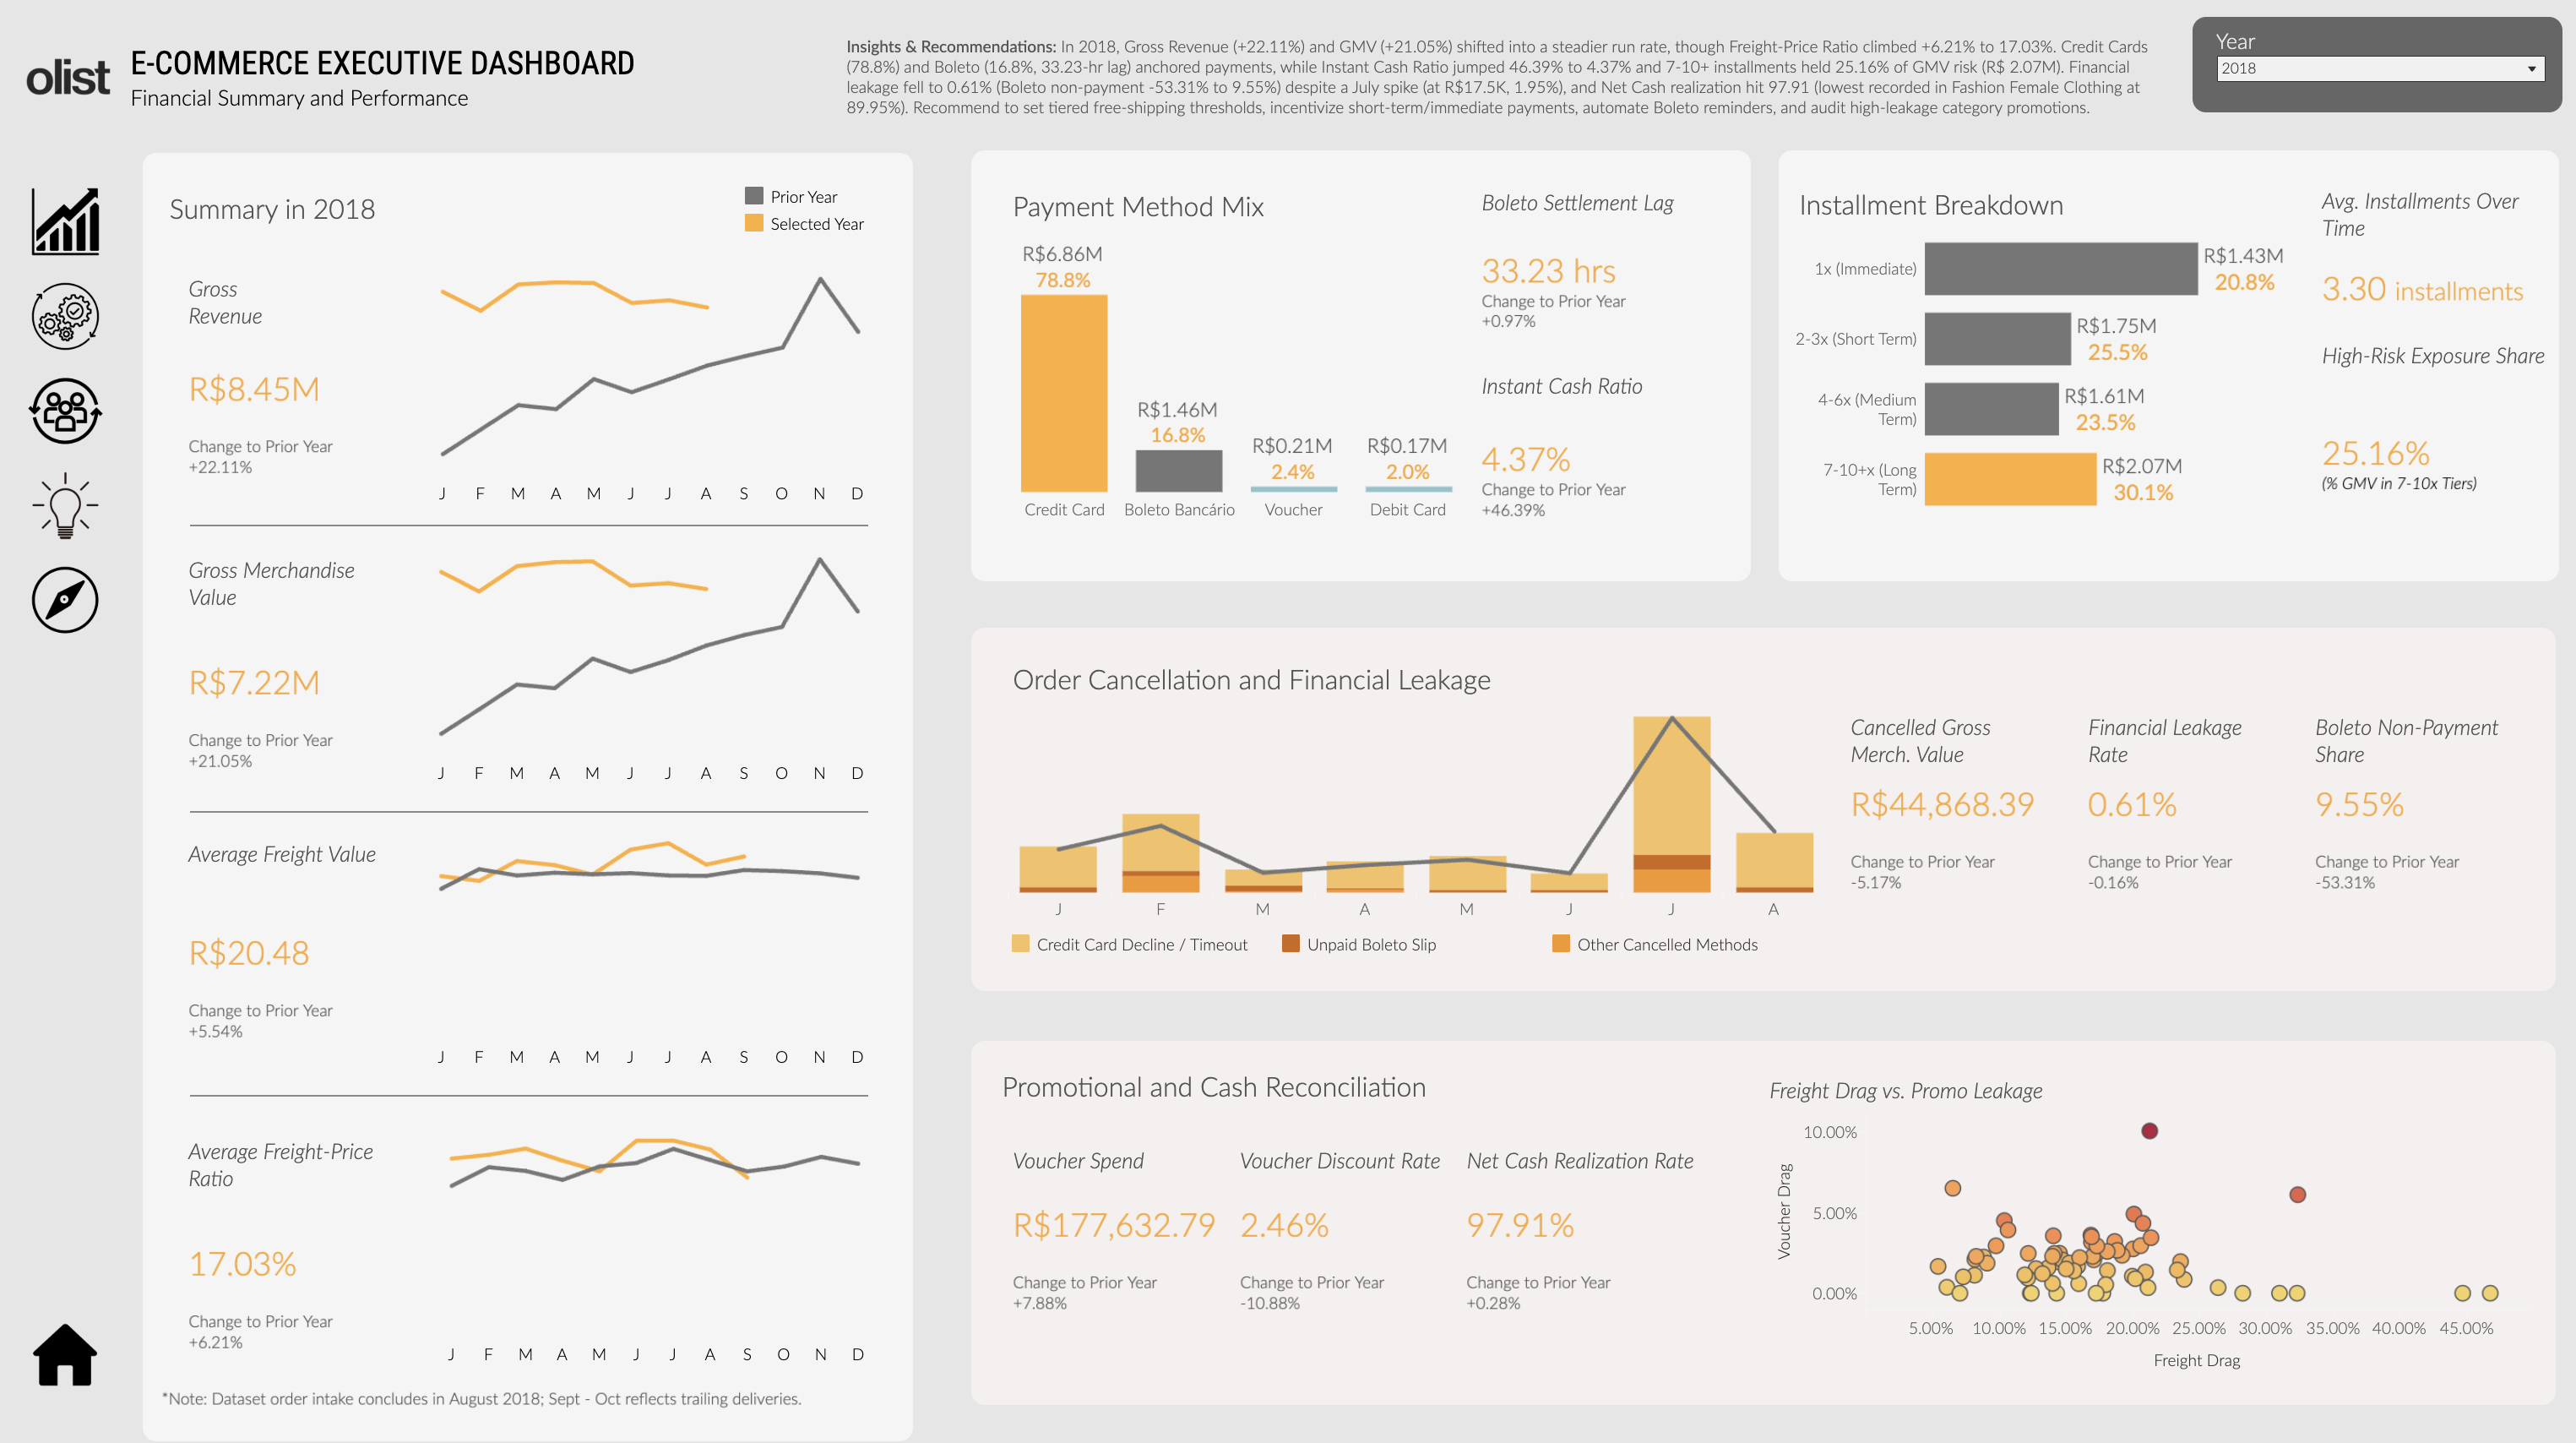

What the dashboard file says about the page in this screenshot:
{"tool":"tableau","page":{"name":"1. Financial Summary","canvas":[1920,1080],"ordinal":1},"visuals":[{"type":"blank","box":[1630,17,274,71]},{"type":"dashboard-object","box":[19.1,20.8,81,80.9]},{"type":"text","box":[100.1,20.8,530,80.9]},{"type":"text","box":[630.1,20.8,981,80.9]},{"type":"blank","box":[1611.1,20.8,32,80.9]},{"type":"parameter","param":"[Parameters].[Parameter 0014559299325996]","box":[1643.1,20.8,252.7,80.9]},{"type":"blank","box":[726,116,577,319]},{"type":"blank","box":[1324,116,577,319]},{"type":"blank","box":[112.6,117.7,570,953.7]},{"type":"worksheet","title":"Installment Breakdown","mark":"Automatic","rows":["Calculation_0014833250615359"],"cols":["Calculation_1350130400096257"],"box":[1331,133,387,279]},{"type":"worksheet","title":"BAN - Avg. Installments","mark":"Automatic","box":[1718,133,194,114]},{"type":"dashboard-object","box":[21.1,133.6,70.4,70]},{"type":"worksheet","title":"Payment Method Mix","mark":"Automatic","rows":["Calculation_1350130400096257"],"cols":["payment_type"],"box":[749,134,347,279]},{"type":"worksheet","title":"BAN - Boleto Settlement Lag","mark":"Automatic","box":[1096,134,185,136]},{"type":"worksheet","title":"Dynamic Title - Revenue","mark":"Automatic","box":[125,136,427,48]},{"type":"legend","title":"Freight Price Ratio Trend","param":"[federated.0ahelyx13kq92b10yuz131bg1ek3].[none:Calculation_0014559309910066:nk]","box":[552,136,116,48]},{"type":"worksheet","title":"BAN - Gross Revenue","mark":"Automatic","box":[139,198,178,158]},{"type":"worksheet","title":"Revenue Trend","mark":"Automatic","rows":["Calculation_0001167595798591"],"cols":["order_purchase_timestamp"],"box":[317,198,342.8,182]},{"type":"dashboard-object","box":[21.1,203.6,70.4,70]},{"type":"worksheet","title":"BAN - High Risk Exposure Share","mark":"Automatic","box":[1718,247,194,165]},{"type":"worksheet","title":"BAN - Liquidity Ratio","mark":"Automatic","box":[1096,270,185,143]},{"type":"dashboard-object","box":[21.1,273.6,70.4,70]},{"type":"dashboard-object","box":[21.1,343.6,70.4,70]},{"type":"blank","box":[148,393,502,1]},{"type":"worksheet","title":"BAN - GMV","mark":"Automatic","box":[139,406,177,182]},{"type":"worksheet","title":"Merchandise Value Trend","mark":"Line","rows":["Calculation_0014562505879571"],"cols":["order_purchase_timestamp"],"box":[316,406,344,182]},{"type":"dashboard-object","box":[21.1,413.6,70.4,70]},{"type":"blank","box":[726,469,1173,269]},{"type":"blank","box":[21.1,483.6,70.4,488.4]},{"type":"worksheet","title":"Order Cancellation and Financial Leakage","mark":"Bar","rows":["Calculation_0014424814227471","Calculation_0014424814436368"],"cols":["order_purchase_timestamp"],"box":[749,484,613,205]},{"type":"worksheet","title":"BAN - Cancelled GMV","mark":"Automatic","box":[1369,522,176,150]},{"type":"worksheet","title":"BAN - Financial Leakage Rate","mark":"Automatic","box":[1545,522,168,150]},{"type":"worksheet","title":"BAN - Boleto Non-Payment Share","mark":"Automatic","box":[1713,522,168,150]},{"type":"blank","box":[148,605,502,1]},{"type":"worksheet","title":"BAN- Freight Value","mark":"Automatic","box":[139,616,177,182]},{"type":"worksheet","title":"Freight Value Trend","mark":"Line","rows":["freight_value"],"cols":["order_purchase_timestamp"],"box":[316,616,344,182]},{"type":"legend","title":"Order Cancellation and Financial Leakage","param":"[federated.0ahelyx13kq92b10yuz131bg1ek3].[none:Calculation_0014424814555153:nk]","box":[749,689,613,32]},{"type":"blank","box":[726,775,1173,269]},{"type":"text","box":[749,790,513,36]},{"type":"worksheet","title":"Freight Drag vs. Promo Leakage","mark":"Circle","rows":["Calculation_0014768777453591"],"cols":["Calculation_0014768777334806"],"box":[1313,795,566,229]},{"type":"blank","box":[148,815,502,1]},{"type":"worksheet","title":"BAN - Freight Price Ratio","mark":"Automatic","box":[139,836,185,182]},{"type":"worksheet","title":"Freight Price Ratio Trend","mark":"Line","rows":["Calculation_0014833115504707"],"cols":["order_purchase_timestamp"],"box":[324,836,335.9,182]},{"type":"worksheet","title":"BAN - Voucher Spend","mark":"Automatic","box":[749,843,168,150]},{"type":"worksheet","title":"BAN - Voucher Discount Rate","mark":"Automatic","box":[917,843,168,150]},{"type":"worksheet","title":"BAN - Net Cash Realization Rate","mark":"Automatic","box":[1085,843,188,150]},{"type":"dashboard-object","box":[21.1,972,70.4,70]},{"type":"worksheet","title":"Dynamic Dataset Caveat Note","mark":"Automatic","box":[123,1029,606,21]}]}

Visuals, with their boxes in screenshot pixels (x1, y1, x2, y2), scaled from the page's 1920x1080 canvas onto the 2576x1443 screenshot:
blank: [2187, 23, 2555, 117]
dashboard-object: [25, 28, 134, 136]
text: [134, 28, 845, 136]
text: [845, 28, 2161, 136]
blank: [2161, 28, 2204, 136]
parameter: [2204, 28, 2544, 136]
blank: [974, 155, 1748, 581]
blank: [1776, 155, 2551, 581]
blank: [151, 157, 916, 1431]
"Installment Breakdown" worksheet: [1785, 177, 2305, 551]
"BAN - Avg. Installments" worksheet: [2305, 177, 2565, 330]
dashboard-object: [29, 178, 122, 272]
"Payment Method Mix" worksheet: [1005, 179, 1470, 552]
"BAN - Boleto Settlement Lag" worksheet: [1470, 179, 1719, 361]
"Dynamic Title - Revenue" worksheet: [168, 182, 741, 246]
"Freight Price Ratio Trend" legend: [741, 182, 896, 246]
"BAN - Gross Revenue" worksheet: [187, 264, 426, 476]
"Revenue Trend" worksheet: [426, 264, 885, 508]
dashboard-object: [29, 272, 122, 366]
"BAN - High Risk Exposure Share" worksheet: [2305, 330, 2565, 551]
"BAN - Liquidity Ratio" worksheet: [1470, 361, 1719, 552]
dashboard-object: [29, 366, 122, 459]
dashboard-object: [29, 459, 122, 553]
blank: [198, 525, 872, 526]
"BAN - GMV" worksheet: [187, 542, 424, 786]
"Merchandise Value Trend" worksheet (Line marks): [424, 542, 885, 786]
dashboard-object: [29, 553, 122, 646]
blank: [974, 627, 2548, 986]
blank: [29, 646, 122, 1299]
"Order Cancellation and Financial Leakage" worksheet (Bar marks): [1005, 646, 1828, 921]
"BAN - Cancelled GMV" worksheet: [1837, 698, 2073, 898]
"BAN - Financial Leakage Rate" worksheet: [2073, 698, 2298, 898]
"BAN - Boleto Non-Payment Share" worksheet: [2298, 698, 2524, 898]
blank: [198, 809, 872, 809]
"BAN- Freight Value" worksheet: [187, 823, 424, 1066]
"Freight Value Trend" worksheet (Line marks): [424, 823, 885, 1066]
"Order Cancellation and Financial Leakage" legend: [1005, 921, 1828, 963]
blank: [974, 1036, 2548, 1395]
text: [1005, 1055, 1693, 1103]
"Freight Drag vs. Promo Leakage" worksheet (Circle marks): [1762, 1062, 2521, 1368]
blank: [198, 1089, 872, 1090]
"BAN - Freight Price Ratio" worksheet: [187, 1117, 435, 1360]
"Freight Price Ratio Trend" worksheet (Line marks): [435, 1117, 885, 1360]
"BAN - Voucher Spend" worksheet: [1005, 1126, 1231, 1326]
"BAN - Voucher Discount Rate" worksheet: [1231, 1126, 1456, 1326]
"BAN - Net Cash Realization Rate" worksheet: [1456, 1126, 1708, 1326]
dashboard-object: [29, 1299, 122, 1392]
"Dynamic Dataset Caveat Note" worksheet: [165, 1375, 978, 1403]
